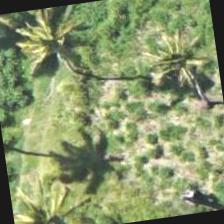Kelapa_Sawit: (0, 2, 101, 97), (132, 28, 223, 130)
